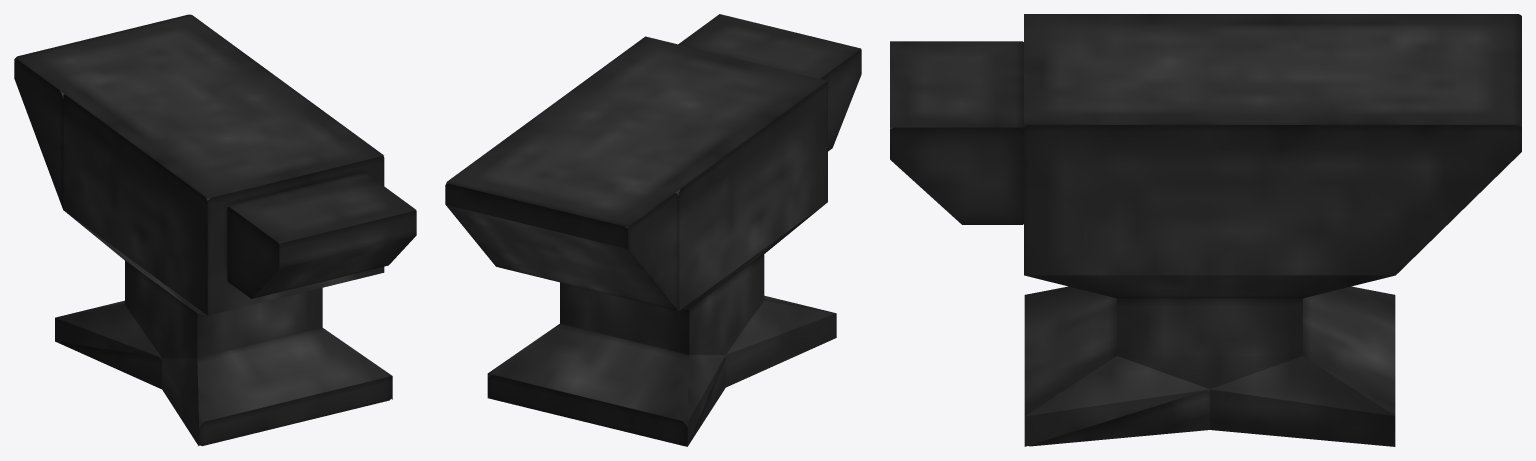
File: Bigorna.fbx
3 views of the same model, side by side, from view 1: azimuth 30°, elevation 25°; view 2: azimuth 150°, elevation 25°; view 3: azimuth 270°, elevation 25° (orthographic). The views are drawn at different scales.
Visible parts, largest first — view 1: Cube.003; view 2: Cube.003; view 3: Cube.003.
Part boxes in pixels (x1=…): Cube.003: x1=14, y1=14, x2=416, y2=446; Cube.003: x1=445, y1=14, x2=861, y2=446; Cube.003: x1=890, y1=14, x2=1521, y2=446.
Bounding box in the file's own units: 99.31 × 123 × 218.
Materials: 1 (1 with a texture image).
